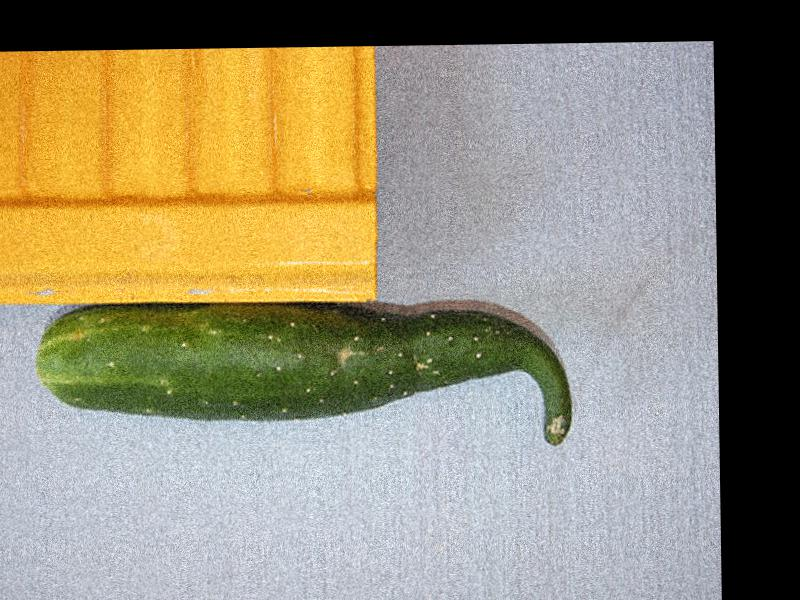Cucumber: (39, 296, 574, 454)
